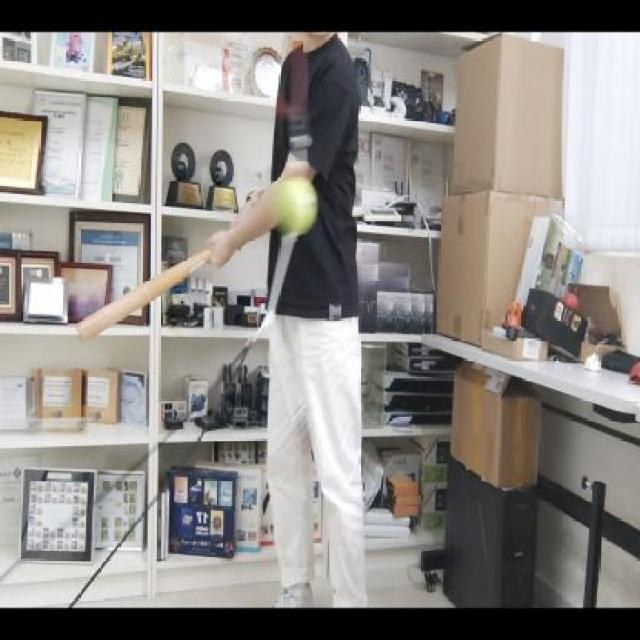baseball: (276, 175, 318, 237)
